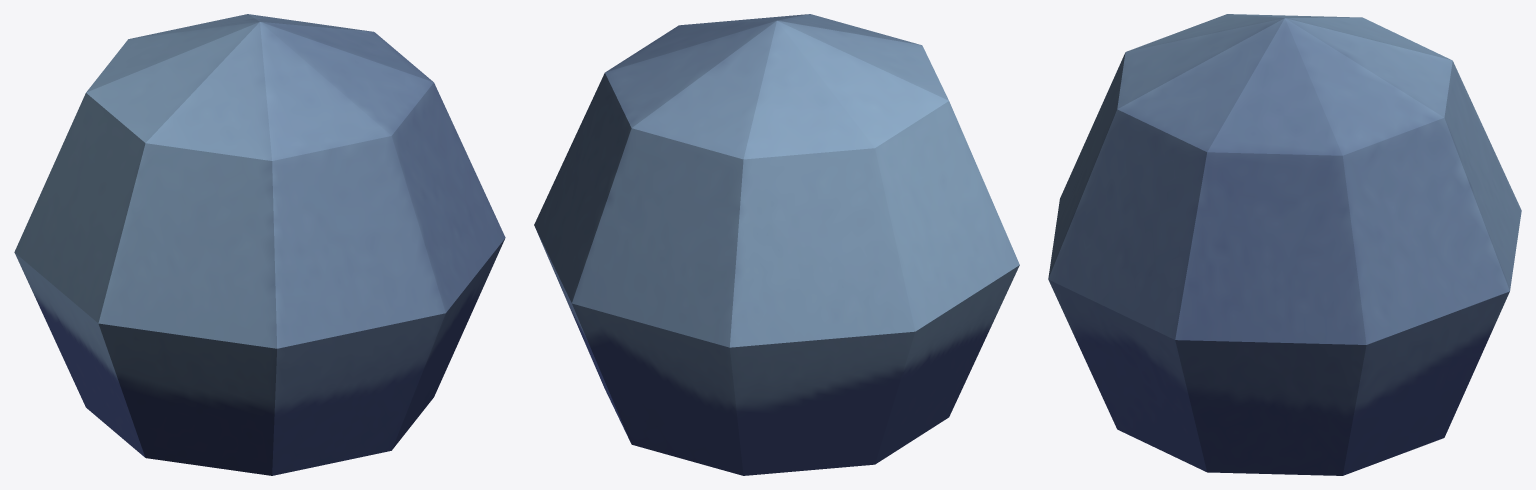
Rendered from Clam_02.FBX.
3 renders of one model, left to right at view 1: azimuth 30°, elevation 25°; view 2: azimuth 150°, elevation 25°; view 3: azimuth 270°, elevation 25°, orthographic.
Visible parts, largest first — view 1: Clam_02; view 2: Clam_02; view 3: Clam_02.
Part boxes in pixels (<box>): Clam_02: <box>14,14,505,475</box>; Clam_02: <box>534,14,1019,475</box>; Clam_02: <box>1048,14,1521,475</box>.
Size of the model in its own units: 1.59 by 1.68 by 1.59.
